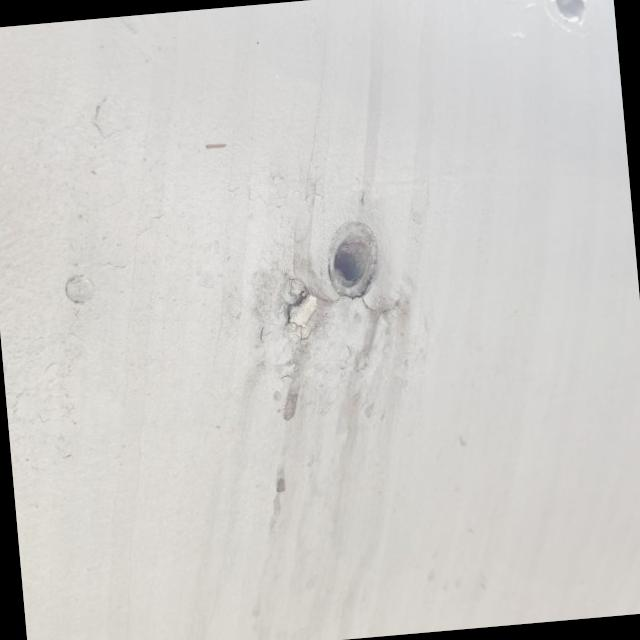crack: (261, 267, 344, 346)
